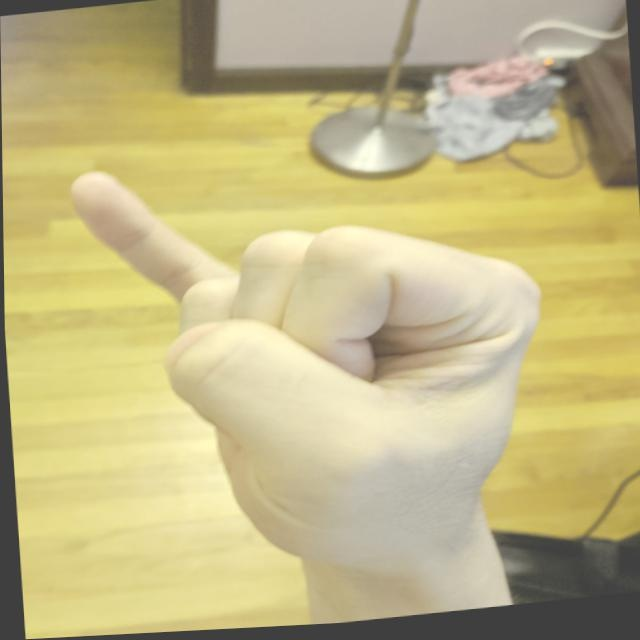I: (56, 123, 568, 601)
